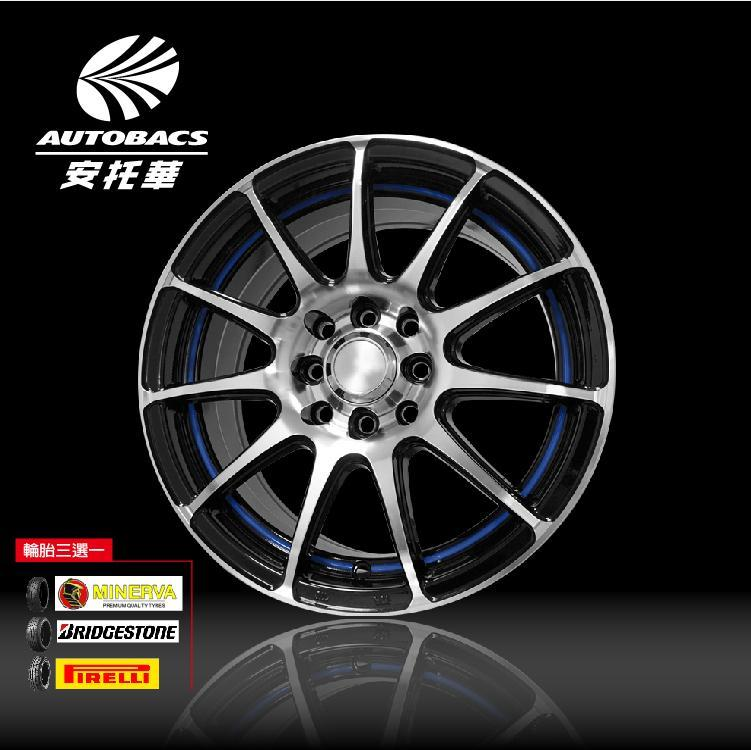hole: (312, 318, 336, 340), (410, 358, 432, 382), (306, 360, 327, 383), (402, 318, 422, 339), (356, 414, 378, 433), (401, 404, 420, 425), (316, 404, 334, 426), (358, 310, 378, 328)
